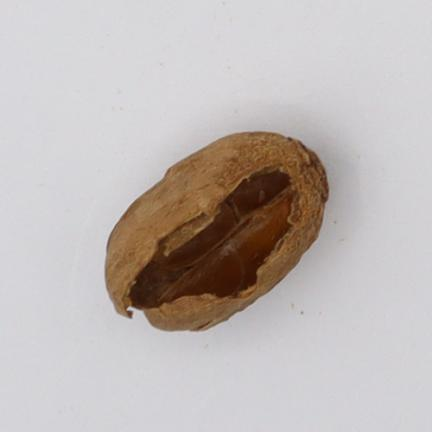husk: (106, 132, 328, 330)
